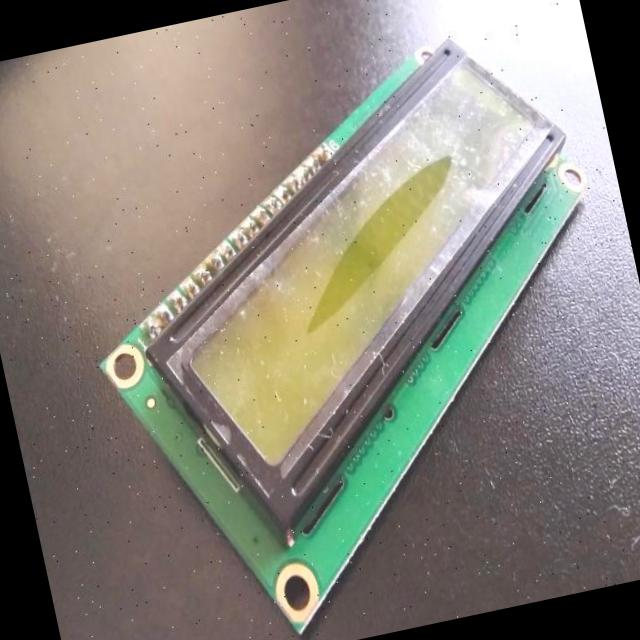lcd: (50, 10, 640, 640)
